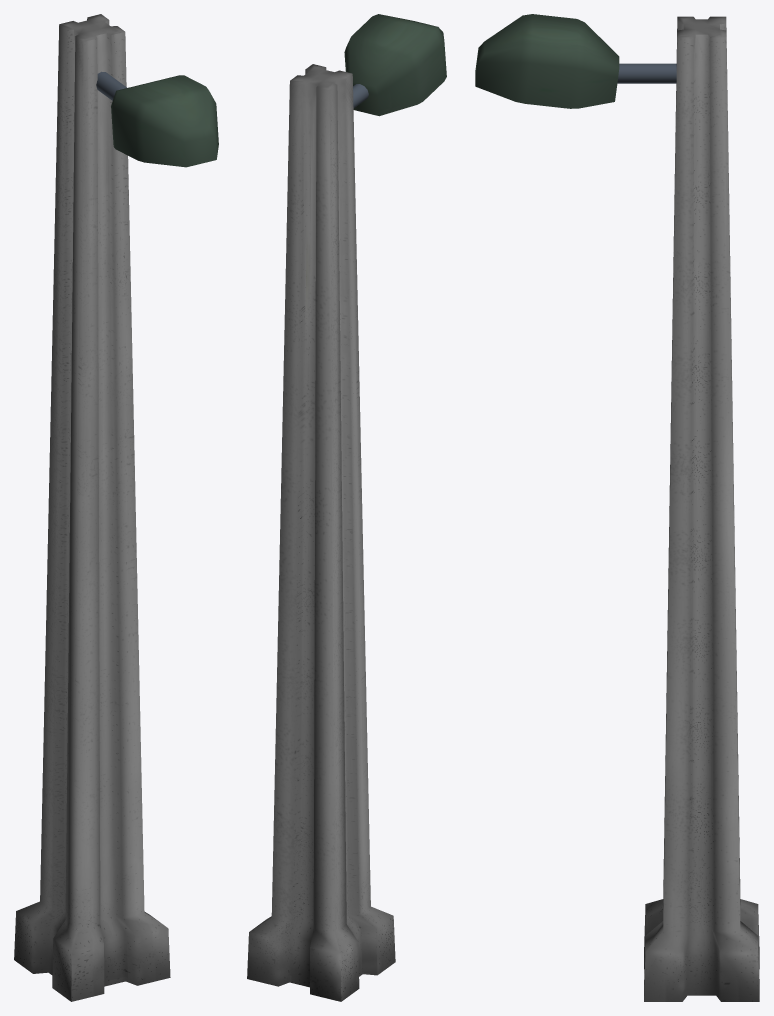
Rendered from farola.glb.
3 renders of one model, left to right at view 1: azimuth 30°, elevation 25°; view 2: azimuth 150°, elevation 25°; view 3: azimuth 270°, elevation 25°, orthographic. The views are drawn at different scales.
Parts seen in each view (by area): view 1: Cube; view 2: Cube; view 3: Cube.
Boxes of the visible parts, x1,y1,x2,y2 form: Cube: [14, 14, 218, 1001]; Cube: [247, 14, 446, 1001]; Cube: [475, 14, 759, 1001].
Size of the model in its own units: 0.331 by 3 by 0.8135.
Materials: 1 (1 with a texture image).
